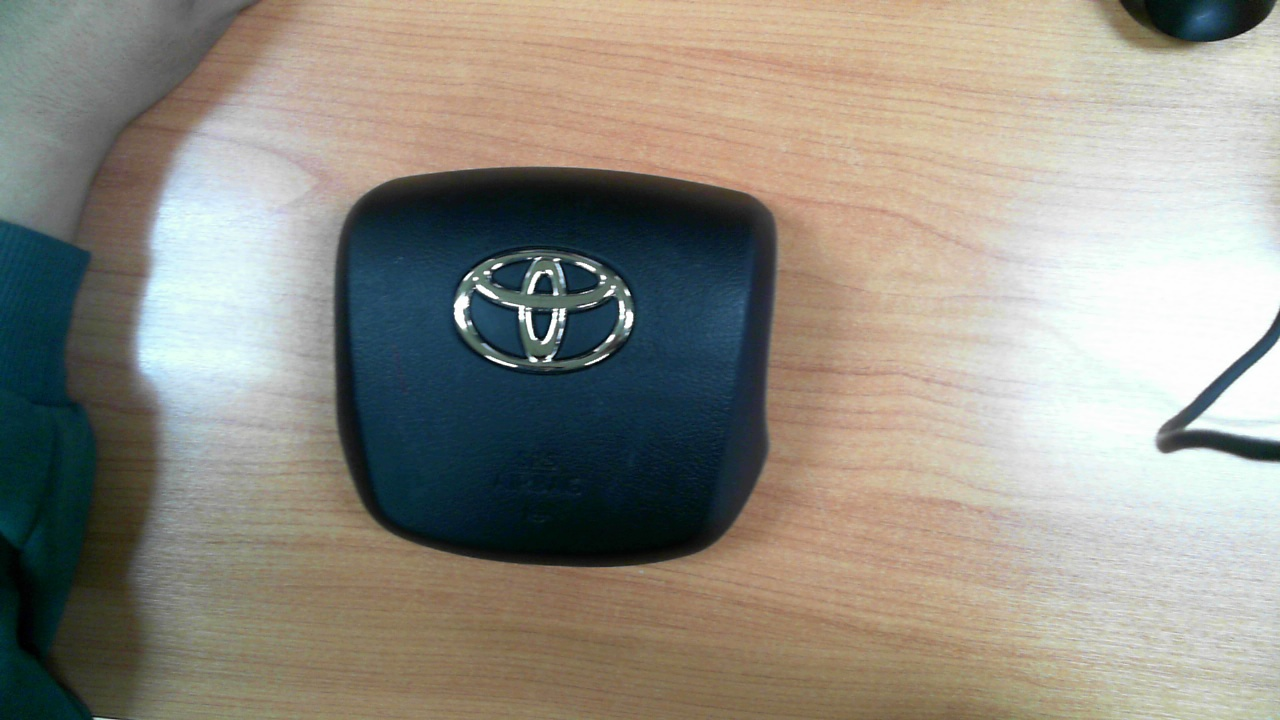Airbag: (332, 166, 779, 569)
Toyota: (452, 248, 635, 372)
